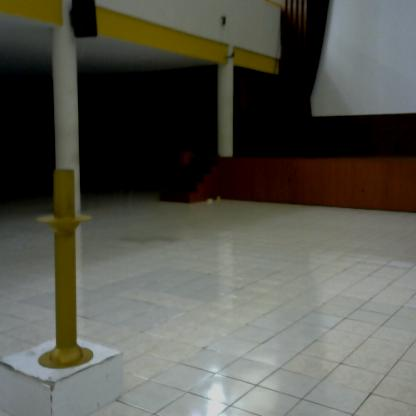pole: (27, 160, 100, 376)
